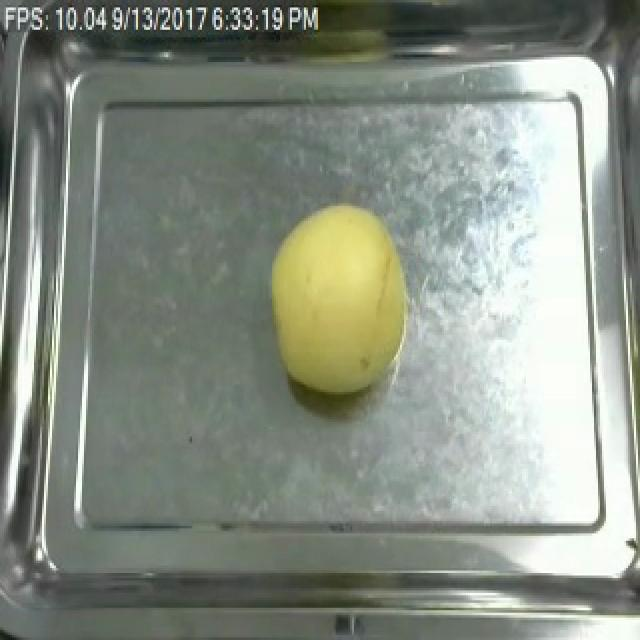Fruit: (262, 196, 418, 399)
